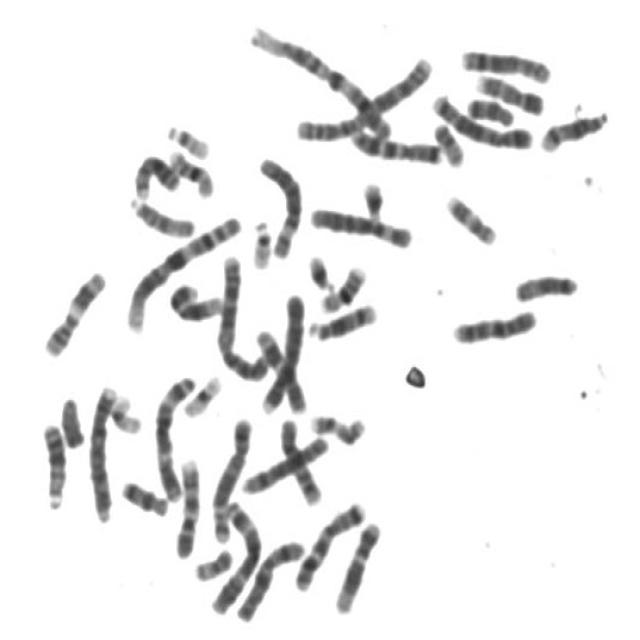A1: (242, 17, 398, 142), (120, 205, 244, 334)
A2: (290, 47, 436, 142), (211, 245, 273, 384)
A3: (205, 492, 265, 616), (148, 366, 198, 502)
B4: (254, 283, 306, 417), (82, 377, 120, 524)
B5: (426, 84, 536, 152), (205, 407, 254, 543)
C10: (273, 410, 324, 508), (444, 299, 540, 346)
C11: (36, 260, 108, 358), (248, 322, 309, 416)
C12: (328, 512, 385, 615), (162, 273, 227, 323)
C6: (252, 146, 305, 261), (304, 197, 416, 251)
C7: (288, 491, 370, 593), (343, 118, 446, 166)
C8: (235, 425, 332, 496), (454, 38, 554, 86)
C9: (470, 65, 548, 116), (168, 450, 204, 560)
D13: (35, 412, 69, 512), (126, 144, 182, 198)
D14: (533, 101, 611, 153), (302, 294, 380, 342)
D15: (122, 188, 196, 238), (508, 263, 582, 305)
E16: (162, 140, 217, 198), (315, 257, 368, 313)
E17: (438, 185, 501, 247), (303, 404, 368, 447)
E18: (114, 472, 170, 518), (460, 88, 517, 128)
F19: (176, 366, 224, 420), (105, 386, 144, 436)
F20: (427, 113, 467, 168), (188, 540, 235, 584)
G21: (300, 244, 338, 294), (355, 172, 387, 222)
G22: (160, 114, 212, 160), (246, 211, 274, 270)
X: (230, 531, 306, 623)
Y: (54, 388, 87, 450)
